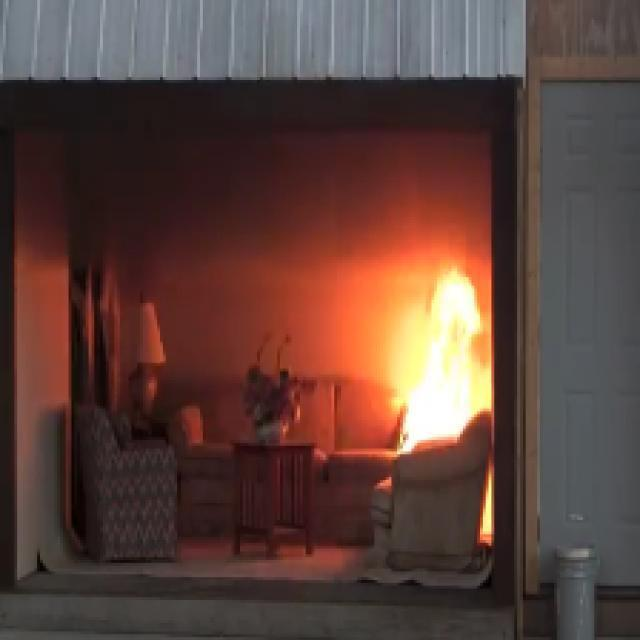Fire: (370, 268, 462, 490)
